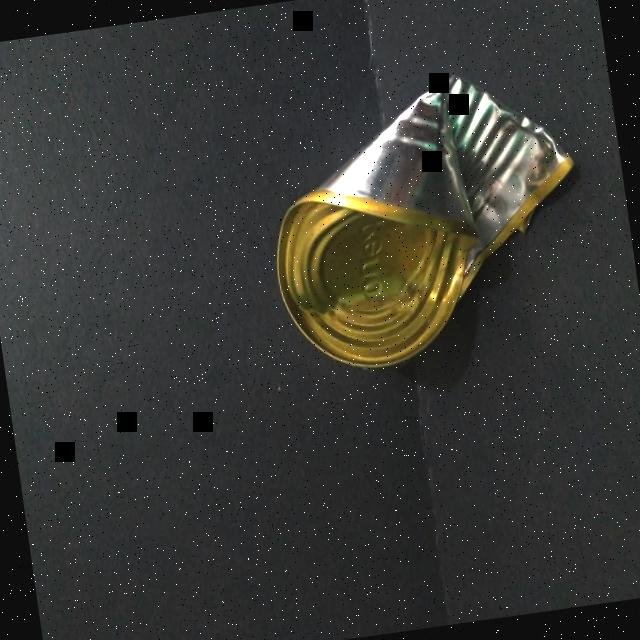can: (248, 59, 600, 386)
